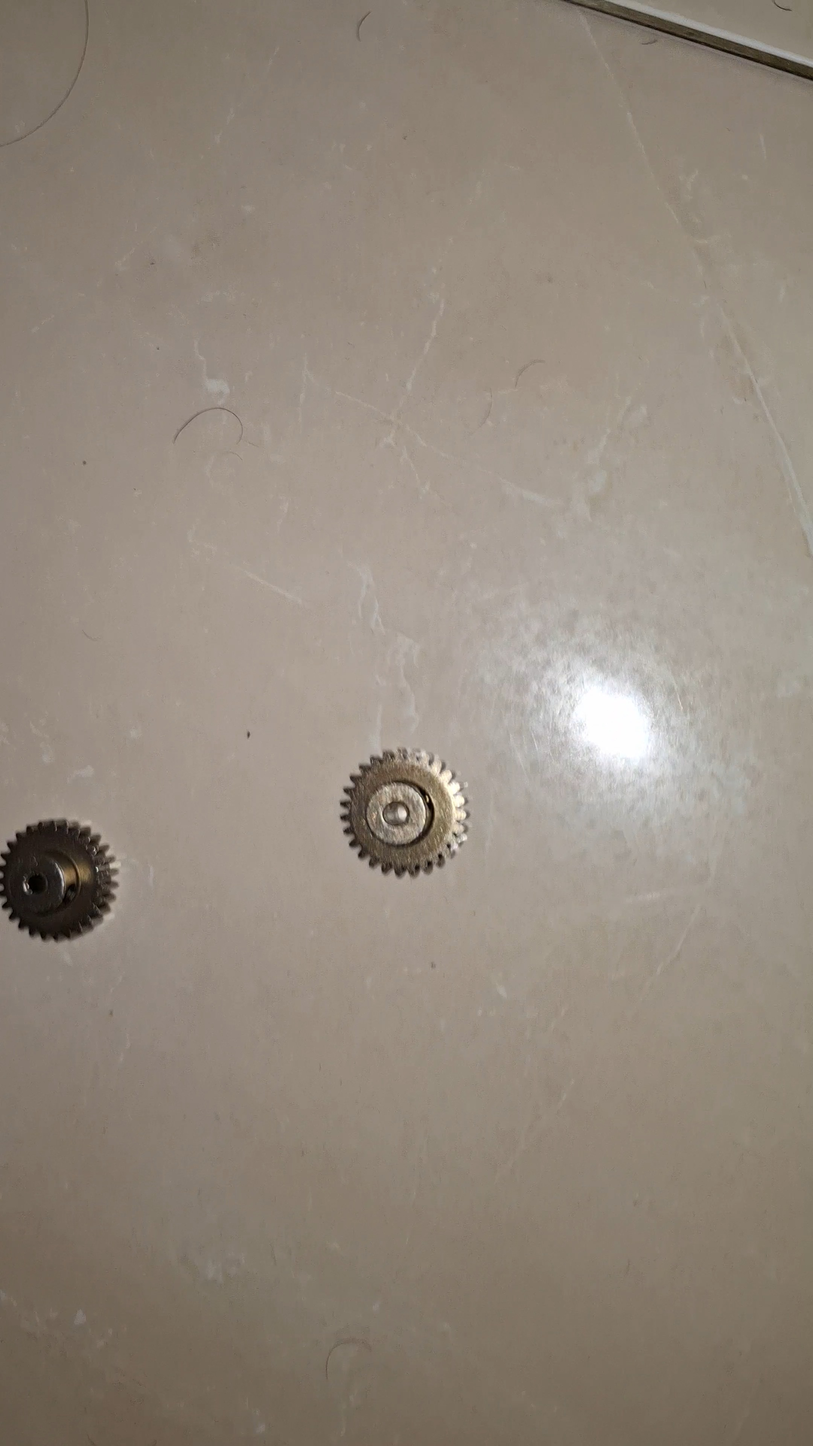spur gear: (342, 748, 466, 876), (0, 820, 114, 938)
